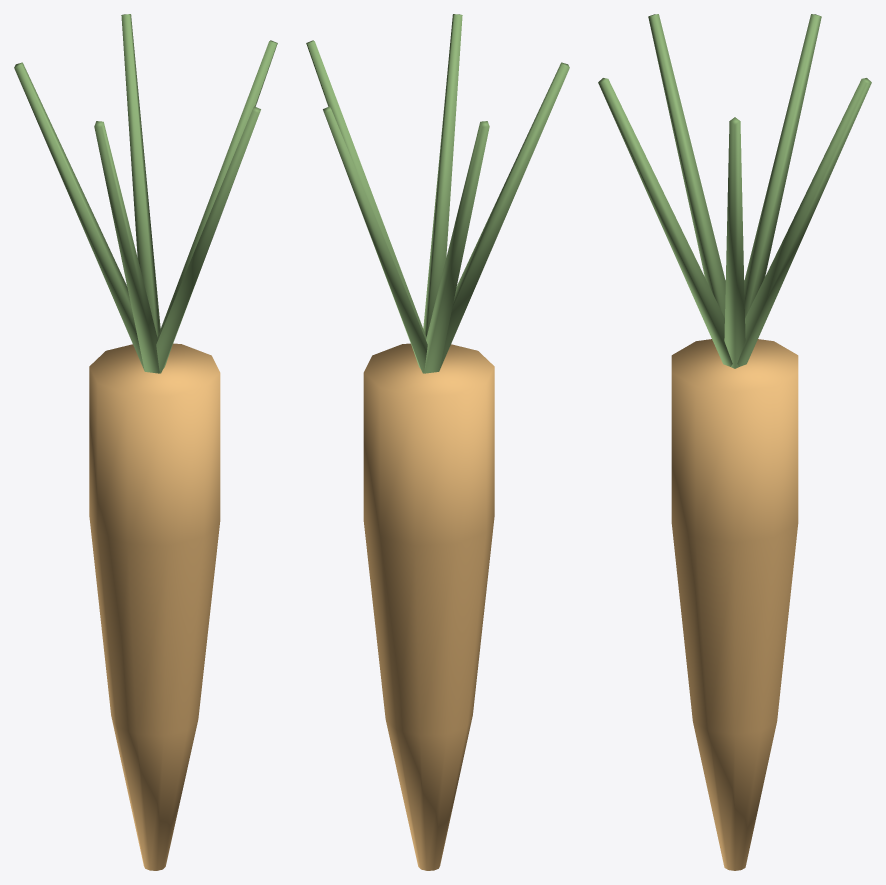
Rendered from SM_Item_wild_carrot.gltf.
The picture shows the model from 3 angles, left to right: view 1: azimuth 30°, elevation 25°; view 2: azimuth 150°, elevation 25°; view 3: azimuth 270°, elevation 25°; orthographic projection.
Parts seen in each view (by area): view 1: SM_Item_wild_carrot; view 2: SM_Item_wild_carrot; view 3: SM_Item_wild_carrot.
Part boxes in pixels (box(x1,y1,x2,y2)): SM_Item_wild_carrot: box(14, 14, 277, 870); SM_Item_wild_carrot: box(306, 14, 569, 870); SM_Item_wild_carrot: box(598, 14, 871, 870).
Size of the model in its own units: 0.0942 by 0.3208 by 0.0988.
